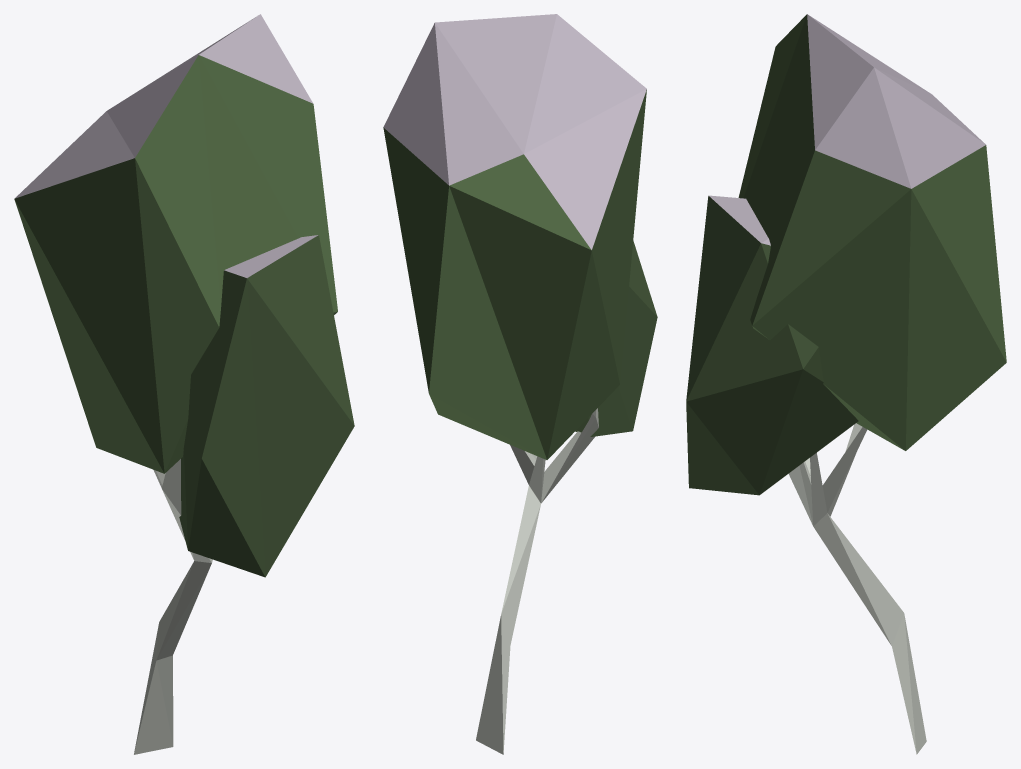
The model's file is BirchTree_Snow_2.lod3.glb.
3 views of the same model, side by side, from view 1: azimuth 30°, elevation 25°; view 2: azimuth 150°, elevation 25°; view 3: azimuth 270°, elevation 25° (orthographic). The views are drawn at different scales.
Parts seen in each view (by area): view 1: BirchTree_Snow_2; view 2: BirchTree_Snow_2; view 3: BirchTree_Snow_2.
Boxes of the visible parts, left/top/right/bottom form: BirchTree_Snow_2: left=14, top=14, right=354, bottom=754; BirchTree_Snow_2: left=383, top=14, right=657, bottom=754; BirchTree_Snow_2: left=686, top=14, right=1006, bottom=754.
Bounding box in the file's own units: 1.41 × 4.12 × 1.64.
